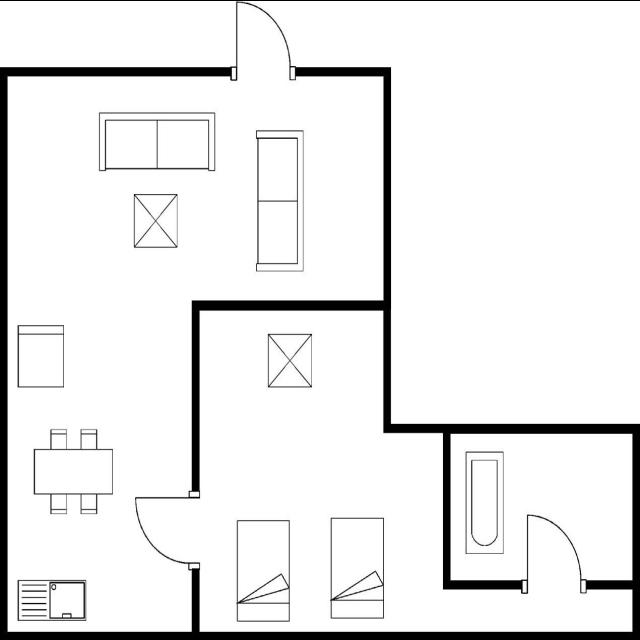bed: (327, 511, 388, 623), (234, 516, 294, 626)
coffee_table: (264, 330, 316, 394), (130, 190, 182, 250)
dining_table: (30, 426, 116, 518)
large_sofa: (94, 108, 220, 176), (251, 126, 307, 276)
sink: (12, 575, 90, 626)
small_sofa: (14, 318, 70, 392)
tub: (461, 447, 509, 558)
